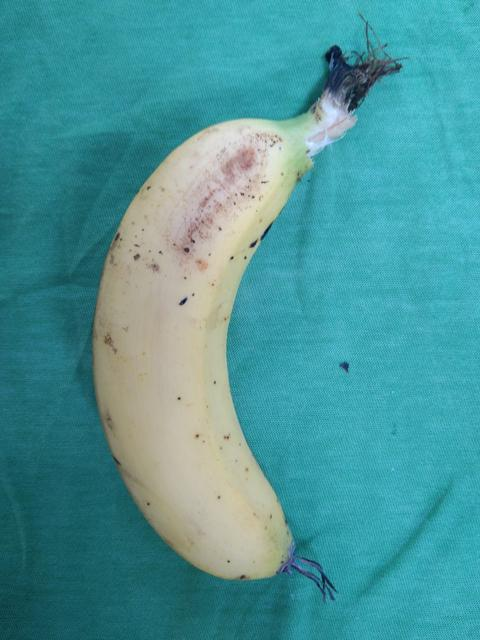freshripe: (82, 107, 339, 591)
